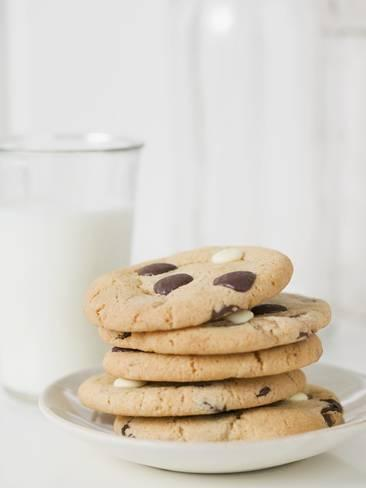glass of milk: (1, 136, 141, 401)
